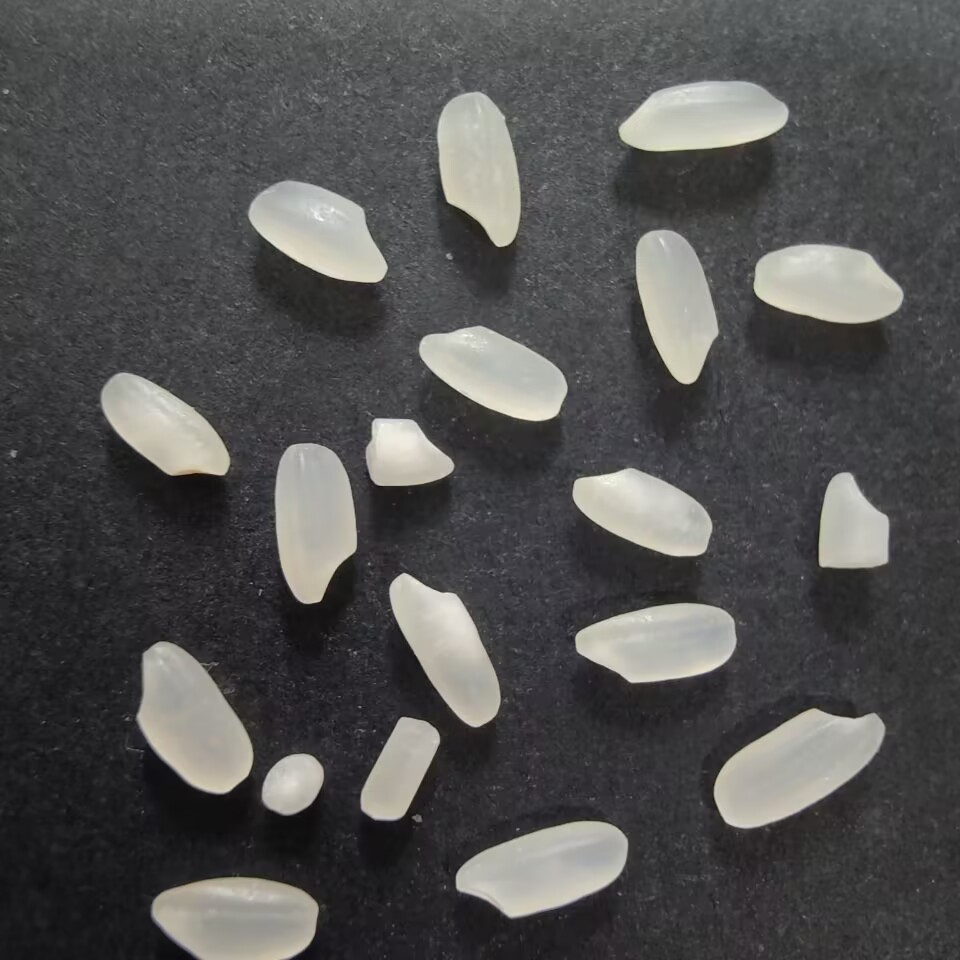broken: (352, 713, 445, 825), (815, 465, 901, 577), (360, 412, 461, 492), (258, 750, 327, 817)
rice: (707, 705, 889, 832), (382, 567, 509, 730), (449, 811, 633, 923), (135, 640, 253, 798), (239, 177, 390, 291), (405, 322, 574, 423), (93, 367, 234, 484), (267, 435, 360, 607), (563, 598, 743, 686), (431, 87, 524, 257), (146, 872, 326, 959), (568, 462, 715, 567), (633, 227, 726, 392), (612, 75, 796, 156), (746, 237, 907, 326)
